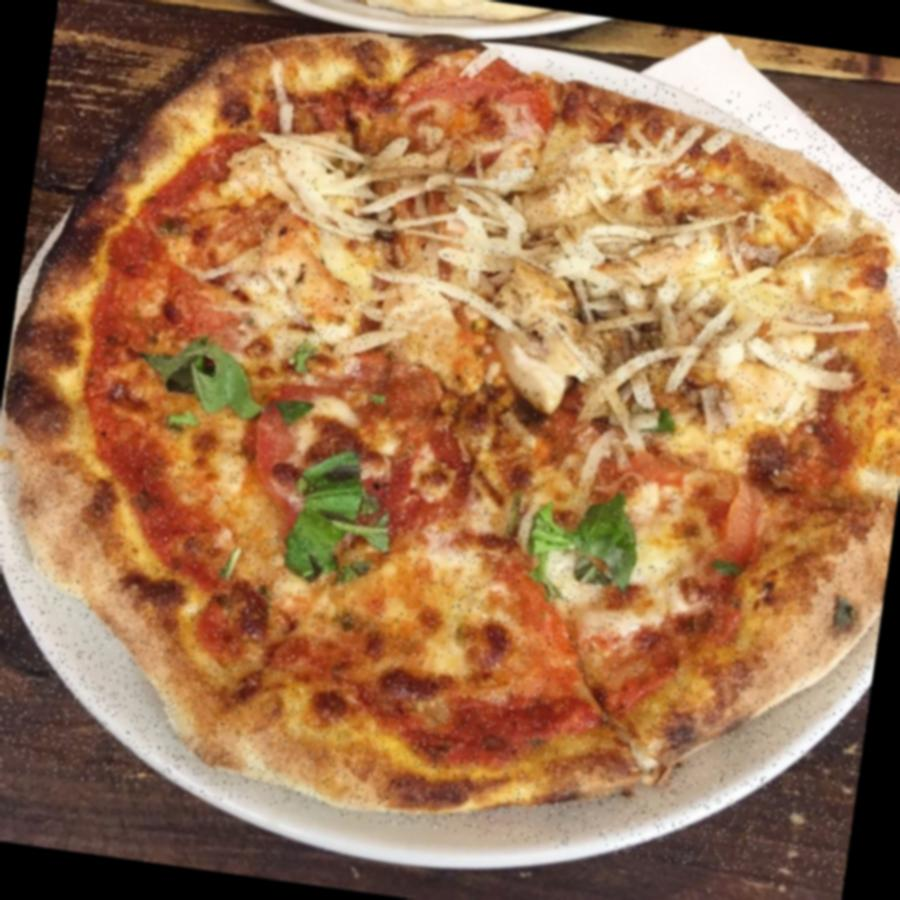Basil: (522, 492, 650, 598), (279, 448, 371, 576), (150, 334, 269, 423)
Mushroom: (487, 330, 578, 416)
Onion: (699, 302, 868, 394), (543, 220, 673, 324), (390, 168, 530, 264), (560, 140, 670, 221), (269, 136, 365, 222)
Pizza: (0, 0, 900, 888)
Tomatoes: (619, 444, 768, 574), (396, 39, 567, 139), (246, 380, 365, 515)
